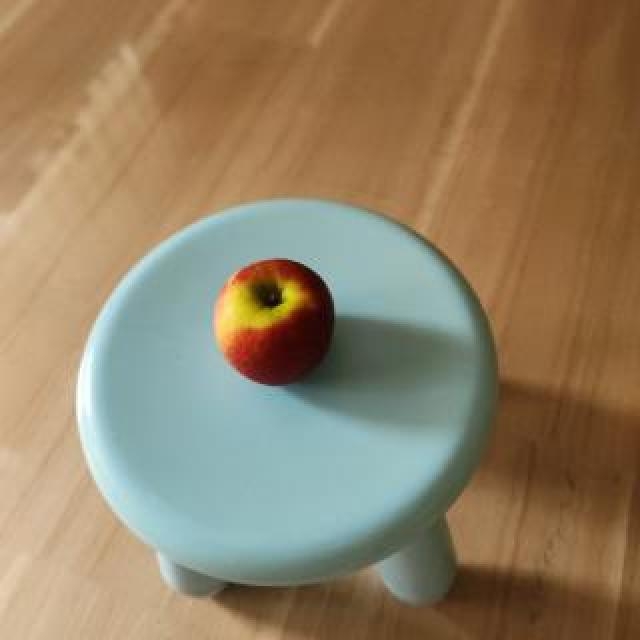Fresh Apple: (208, 250, 342, 392)
